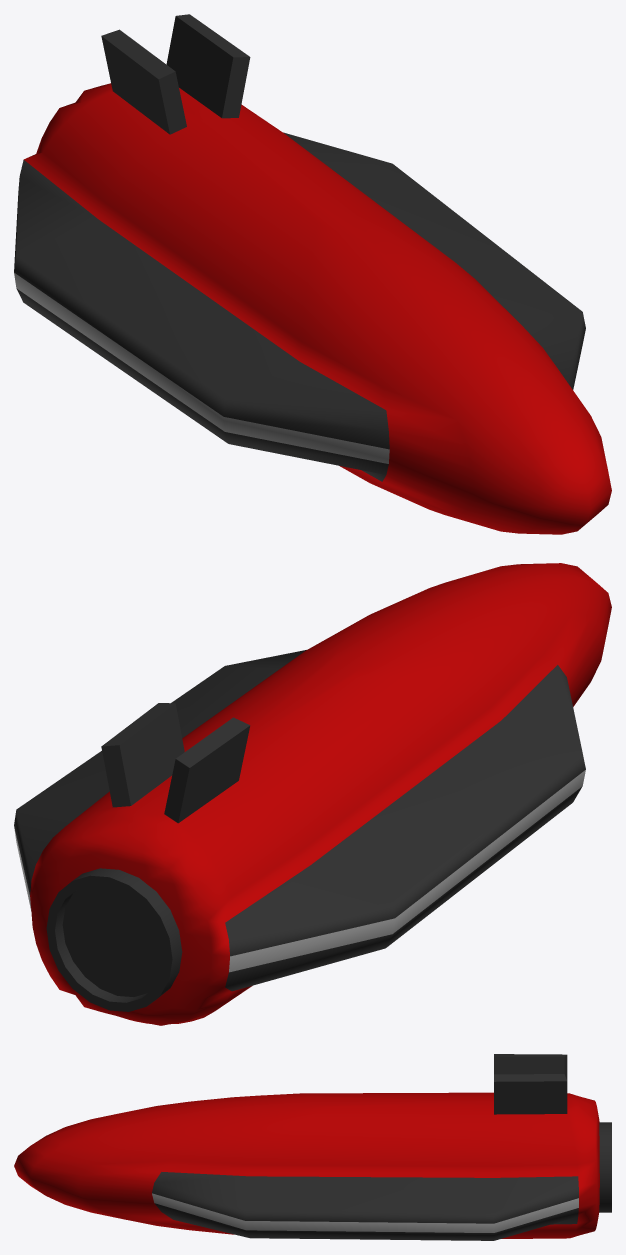
File: RocketProjectile.fbx
3 views of the same model, one above another, from view 1: azimuth 30°, elevation 25°; view 2: azimuth 150°, elevation 25°; view 3: azimuth 270°, elevation 25° (orthographic). The views are drawn at different scales.
Visible parts, largest first — view 1: polySurface35; view 2: polySurface35; view 3: polySurface35.
Part boxes in pixels (x1,y1,x2,y2): polySurface35: [14, 14, 611, 534]; polySurface35: [14, 563, 611, 1025]; polySurface35: [14, 1054, 611, 1240].
Size of the model in its own units: 117 by 78.04 by 256.
